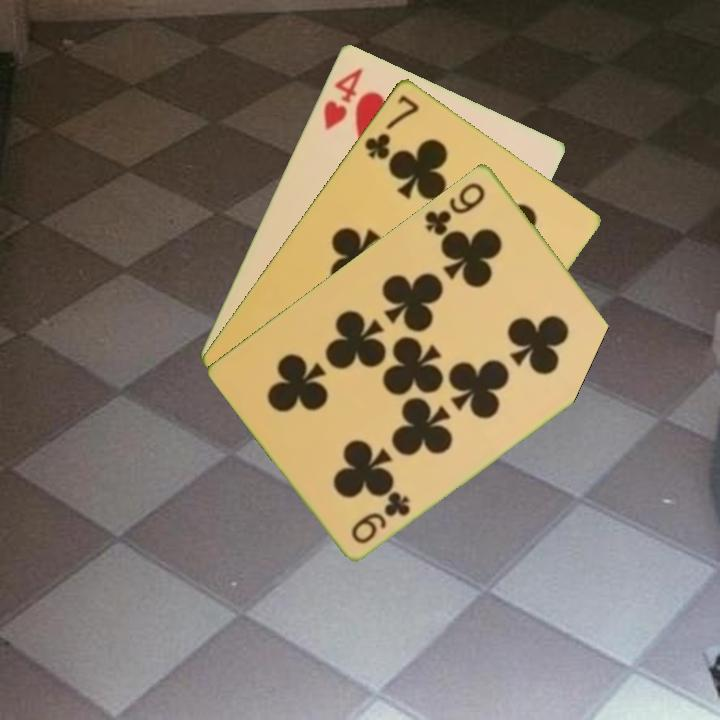4h: (319, 64, 366, 133)
7c: (360, 90, 422, 162)
9c: (420, 178, 489, 239), (347, 487, 414, 547)
